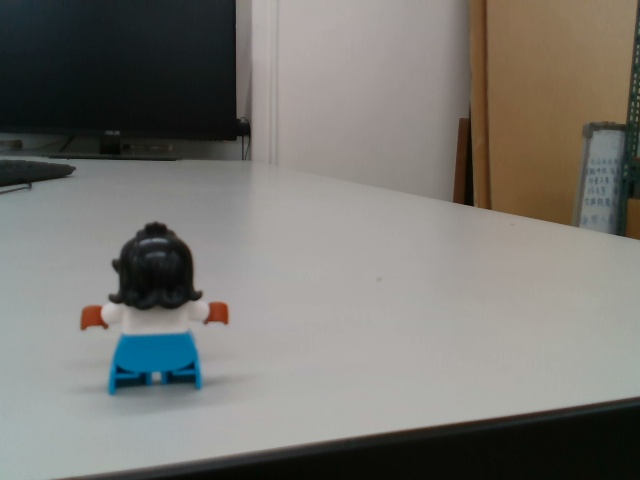people: (76, 219, 232, 397)
